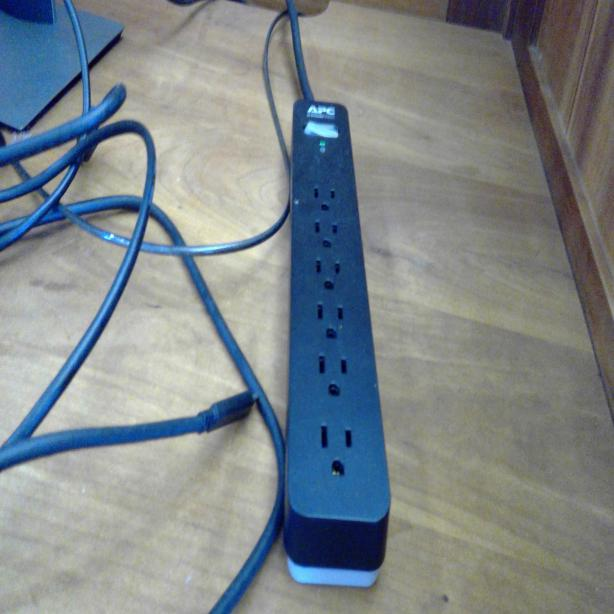typeb: (316, 416, 358, 484), (312, 346, 350, 403), (314, 294, 346, 345), (313, 252, 342, 292), (312, 212, 340, 252), (311, 180, 338, 214)
